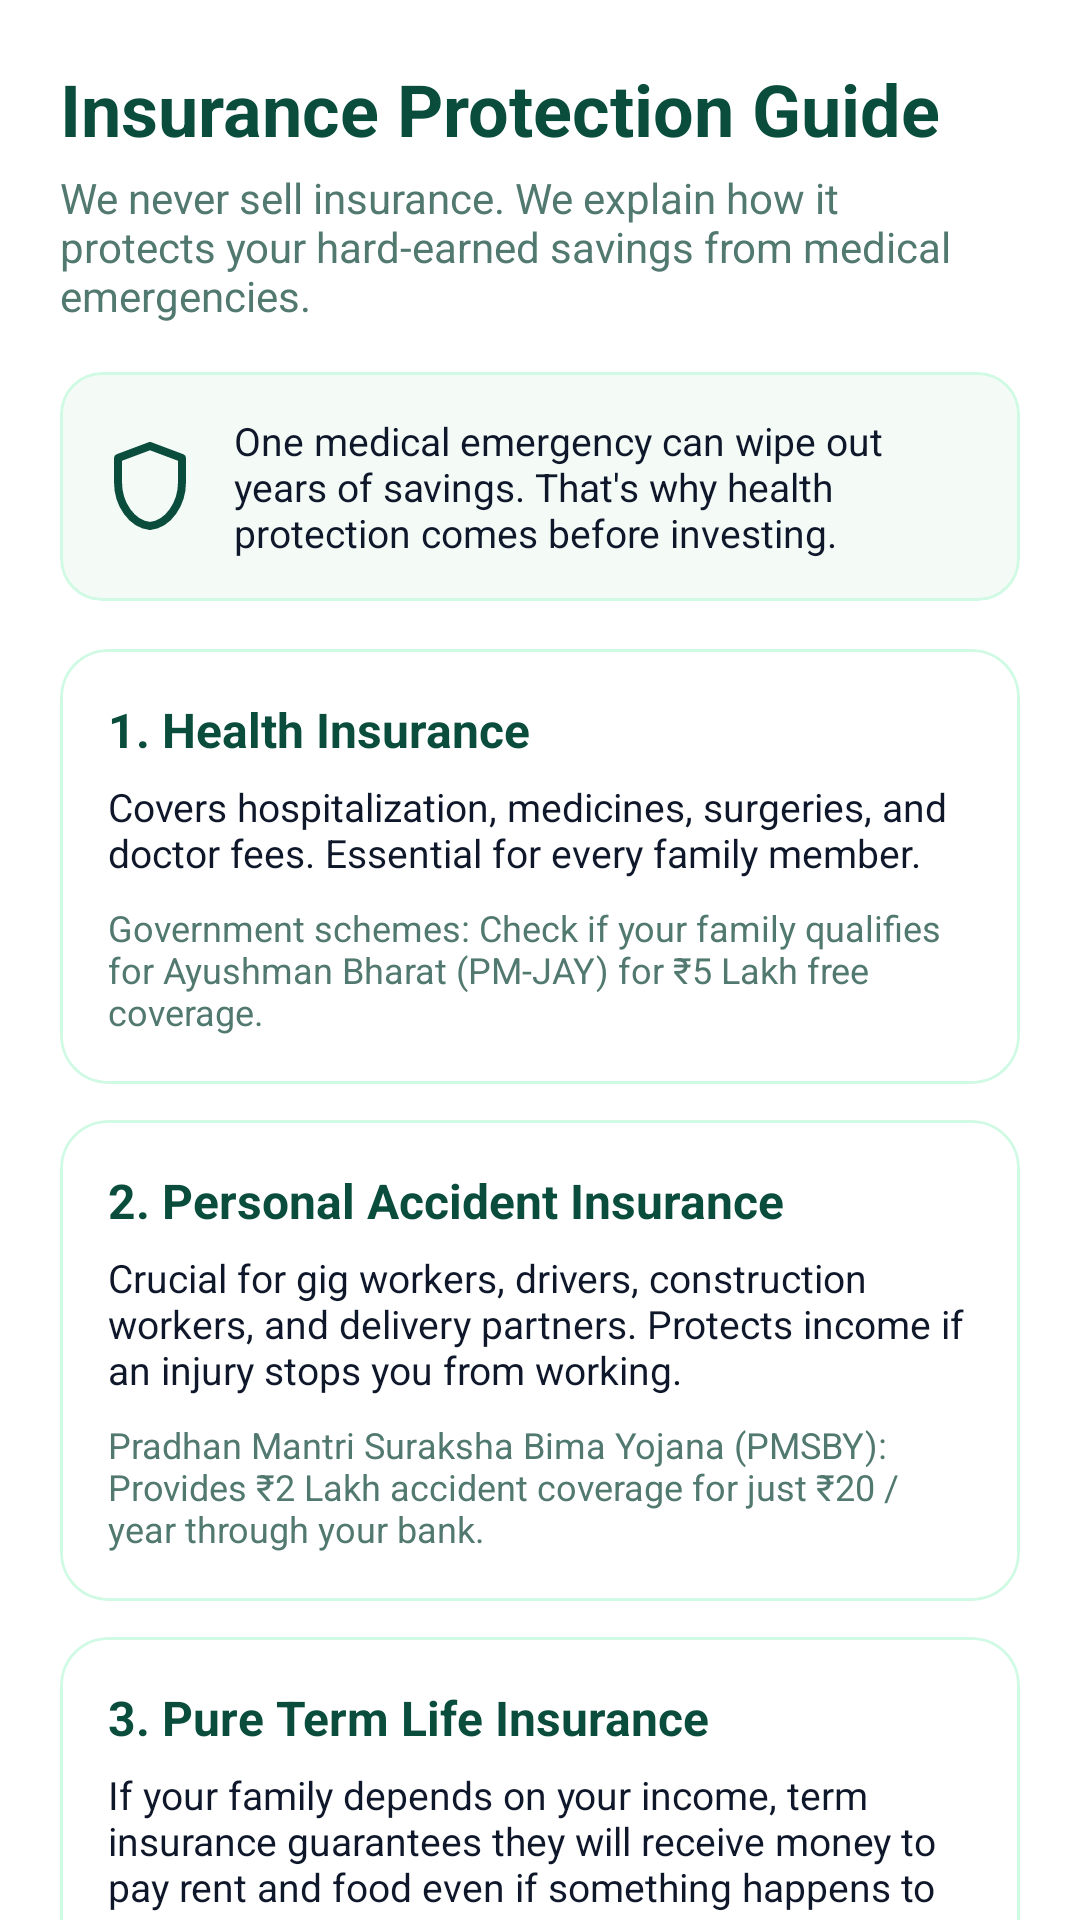

Where to tap for icons on this 1080px×1920px app screen, as (x=x, y=y):
Shield: (x=150, y=486)
